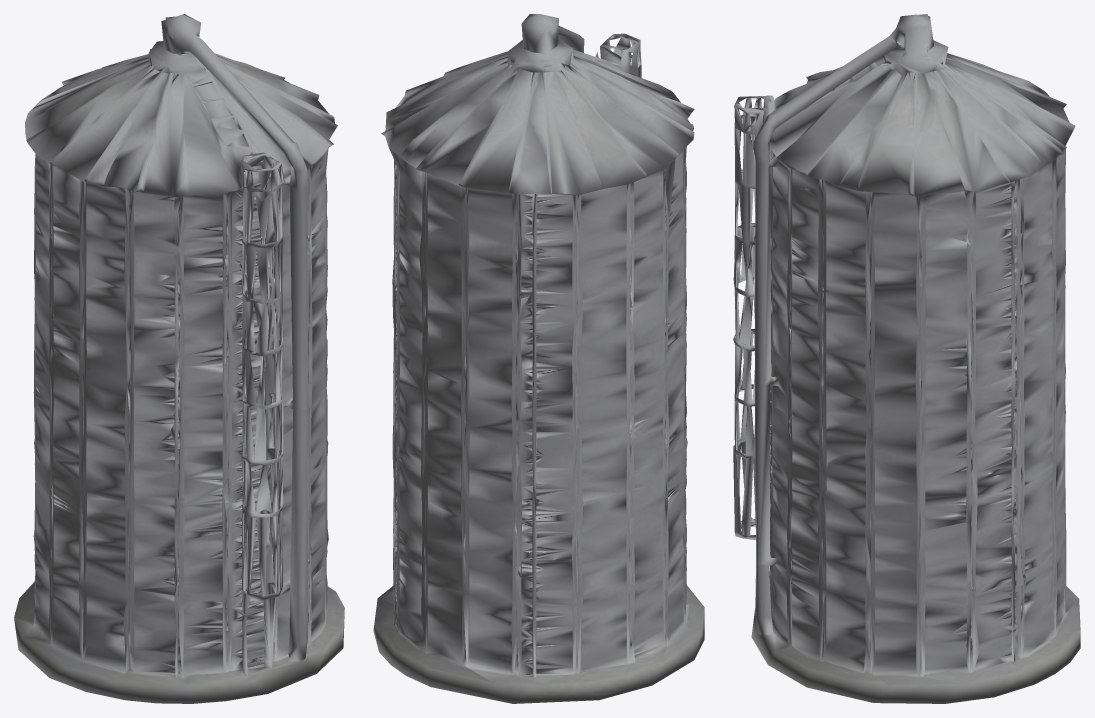
The model's file is grain-silo.glb.
The picture shows the model from 3 angles, left to right: view 1: azimuth 30°, elevation 25°; view 2: azimuth 150°, elevation 25°; view 3: azimuth 270°, elevation 25°; orthographic projection.
Visible parts, largest first — view 1: Mesh_0; view 2: Mesh_0; view 3: Mesh_0.
Boxes of the visible parts, x1,y1,x2,y2 form: Mesh_0: [14, 14, 344, 703]; Mesh_0: [373, 14, 704, 703]; Mesh_0: [733, 14, 1080, 703].
Bounding box in the file's own units: 6.72 × 14 × 7.11.
1 material, 1 textured.
